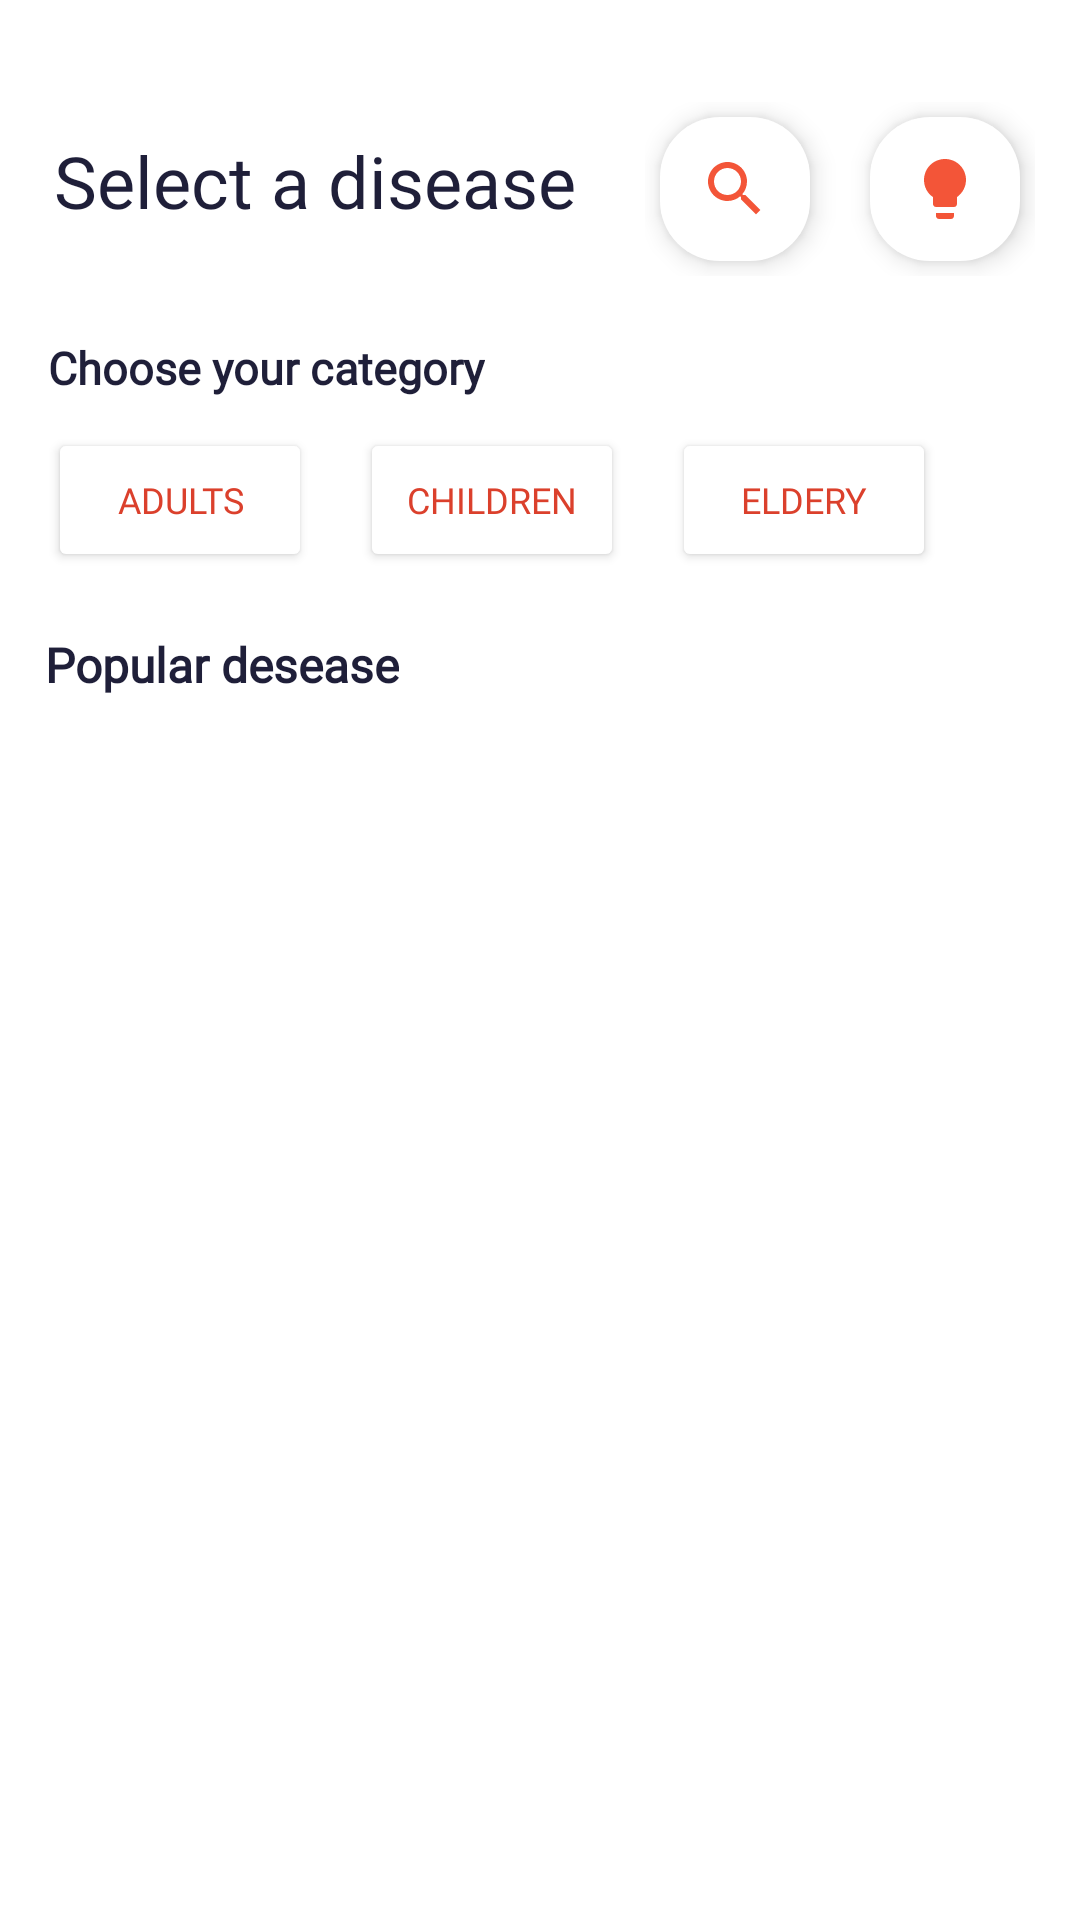

Screen size 1080px x 1920px. Icon name, then its center in pixels as (x,y):
search: (758,202)
tips: (968,194)
